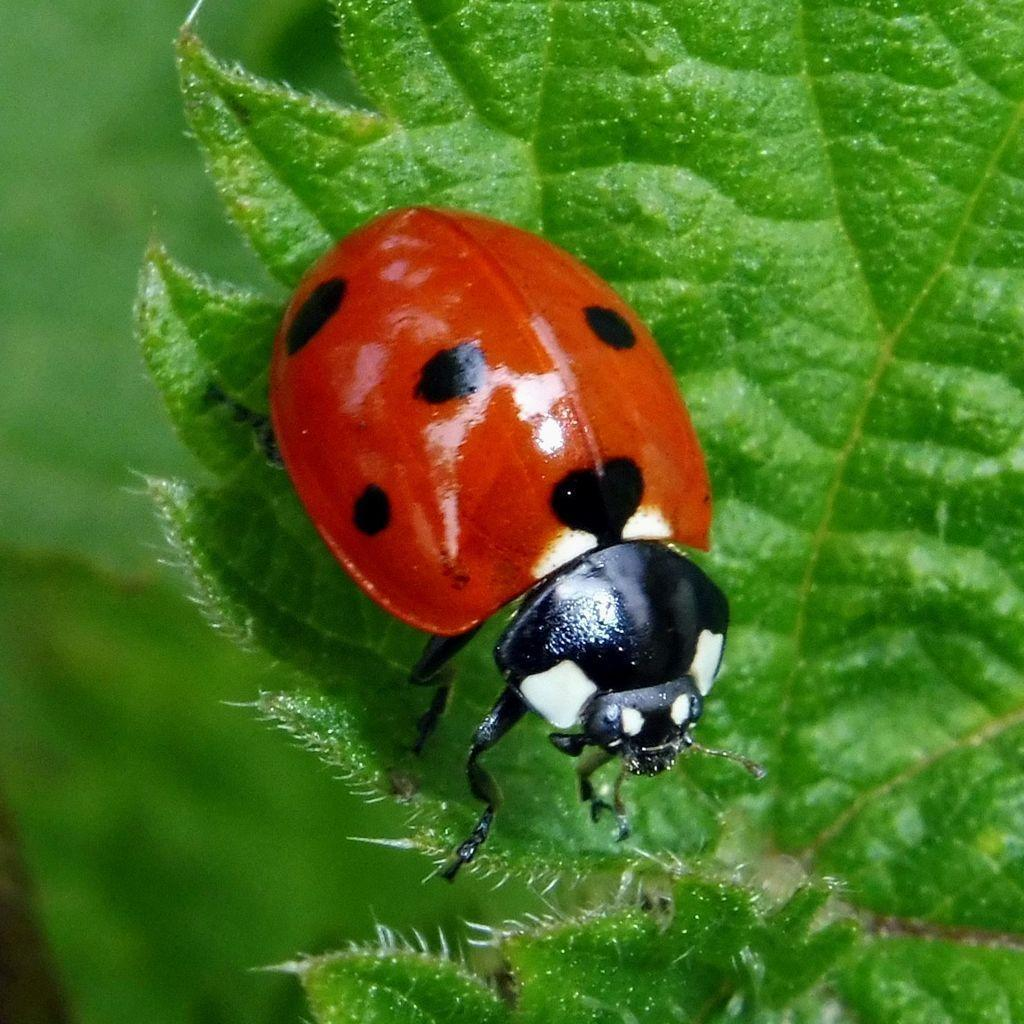ladybug: (254, 201, 739, 889)
